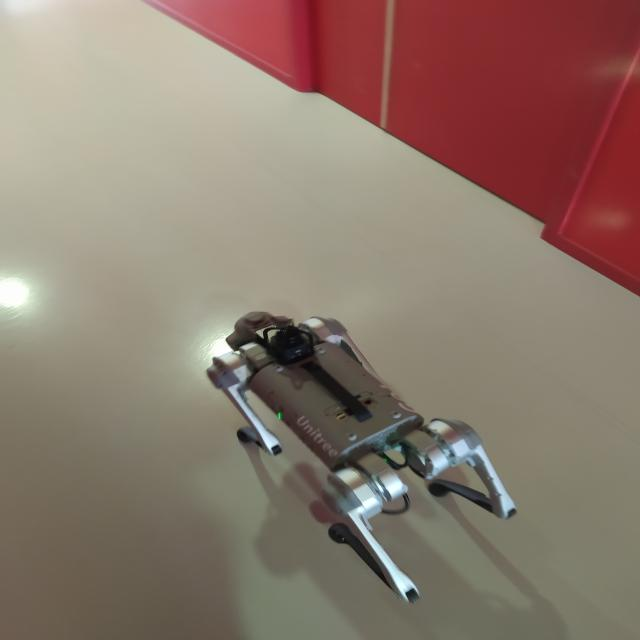unitree-go1-robot: (197, 286, 545, 629)
